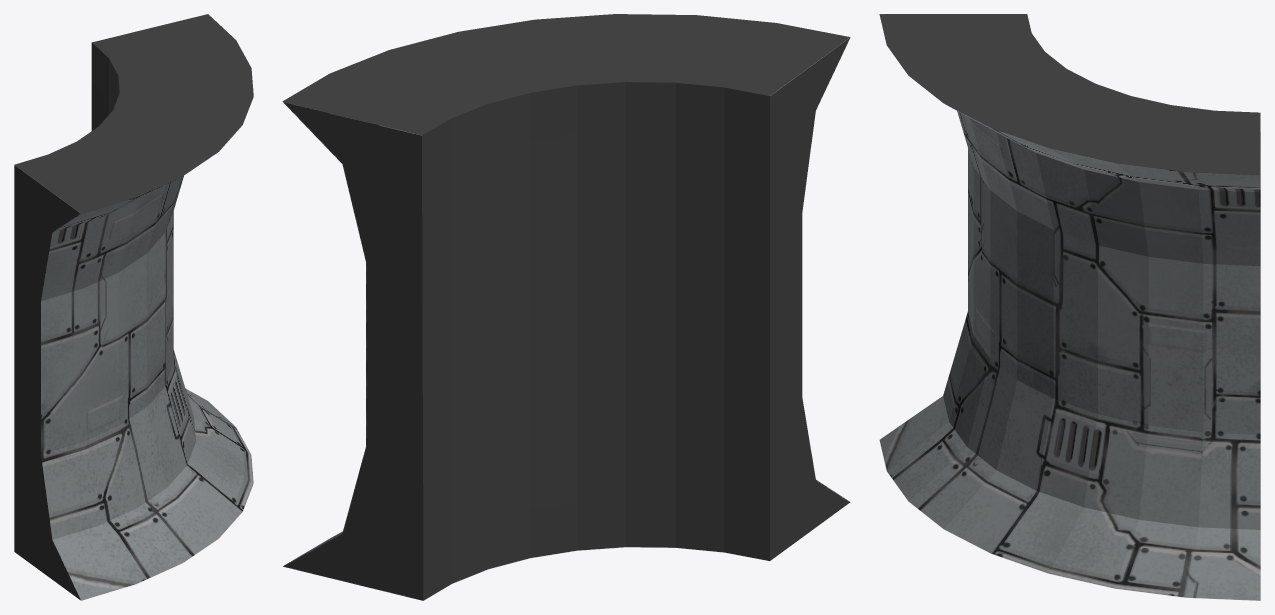
File: wall curved corner.fbx
The picture shows the model from 3 angles, left to right: view 1: azimuth 30°, elevation 25°; view 2: azimuth 150°, elevation 25°; view 3: azimuth 270°, elevation 25°; orthographic projection. The views are drawn at different scales.
Parts seen in each view (by area): view 1: hörn_minus_45; view 2: hörn_minus_45; view 3: hörn_minus_45.
Boxes of the visible parts, x1=… form: hörn_minus_45: x1=14, y1=14, x2=253, y2=600; hörn_minus_45: x1=282, y1=14, x2=850, y2=600; hörn_minus_45: x1=879, y1=14, x2=1260, y2=600.
Bounding box in the file's own units: 2.37 × 2.93 × 2.37.
